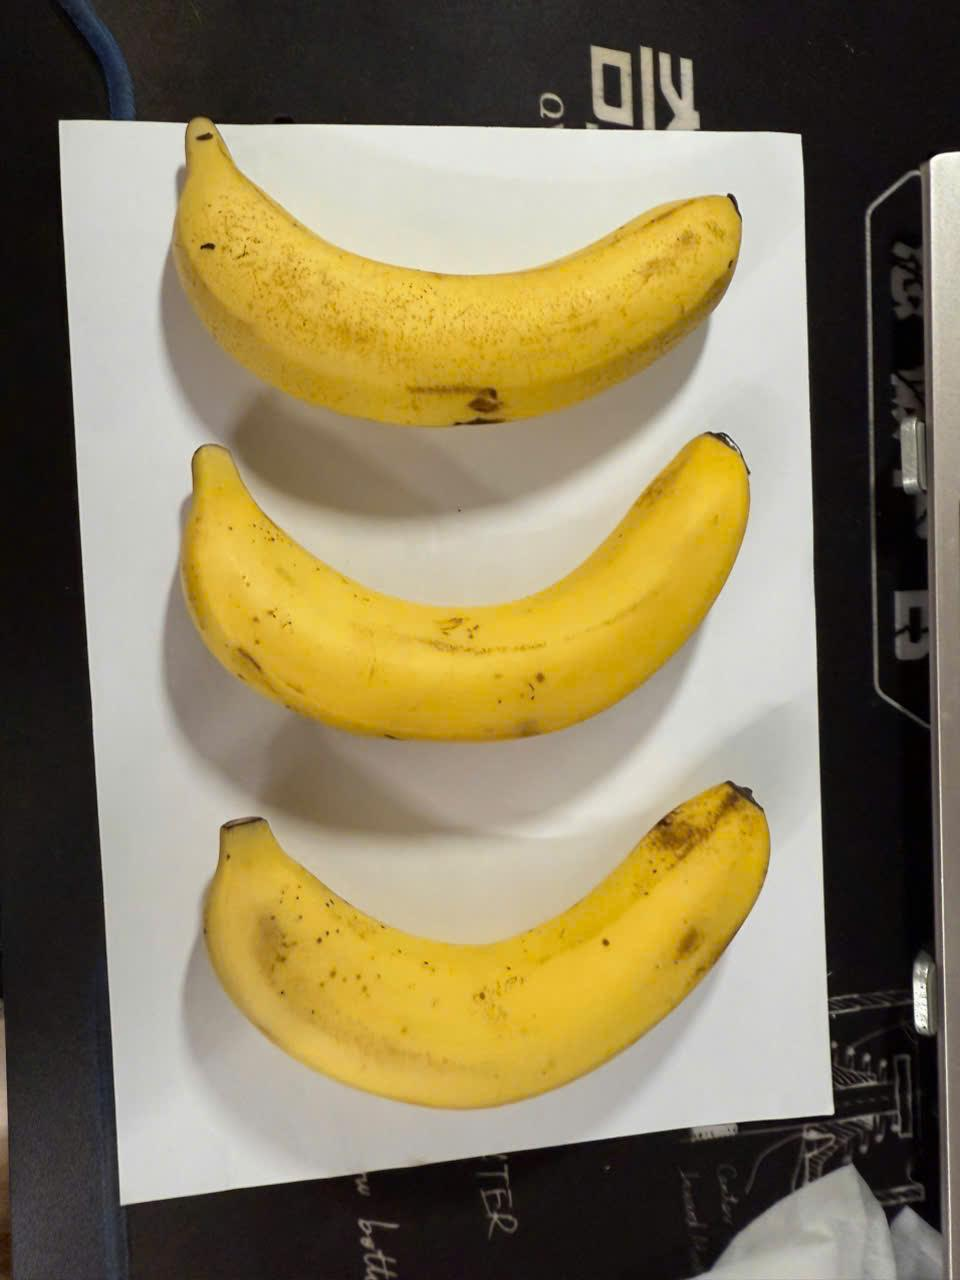banana: (150, 771, 782, 1120), (145, 436, 782, 746), (152, 118, 754, 440)
